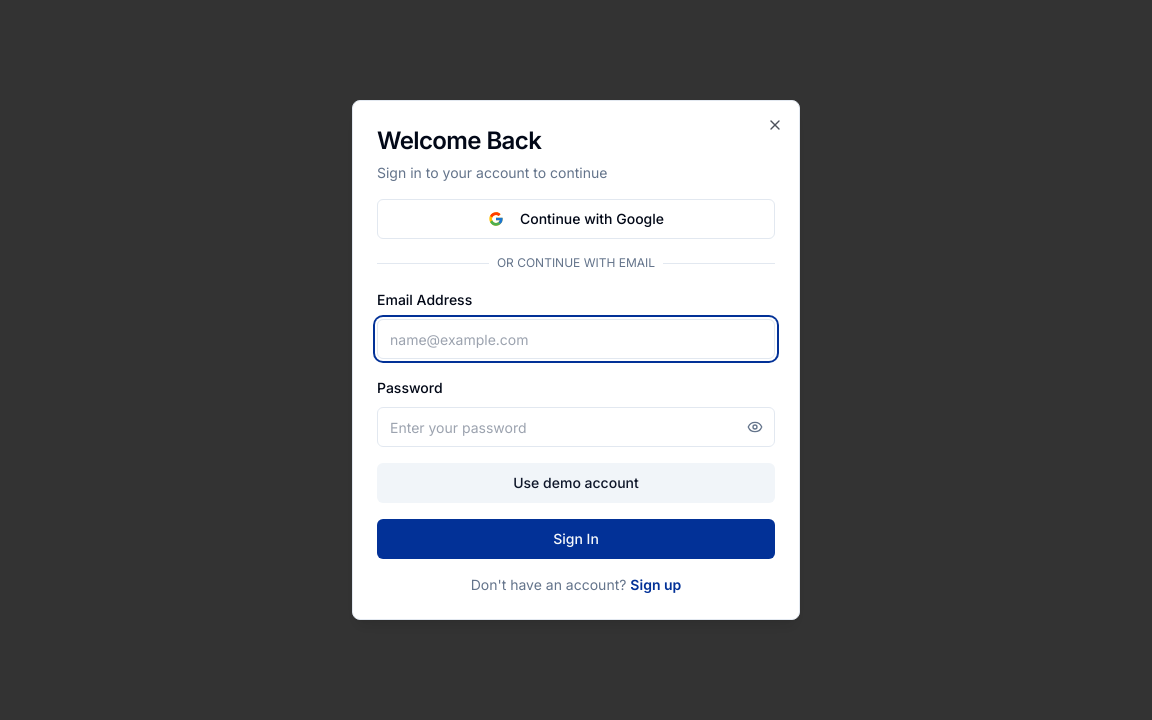
Test case: AuthModals - Authentication › should disable form inputs during loading
In the field labelled "Email Address": (576, 339) [377, 319, 775, 359], type "test@example.com"
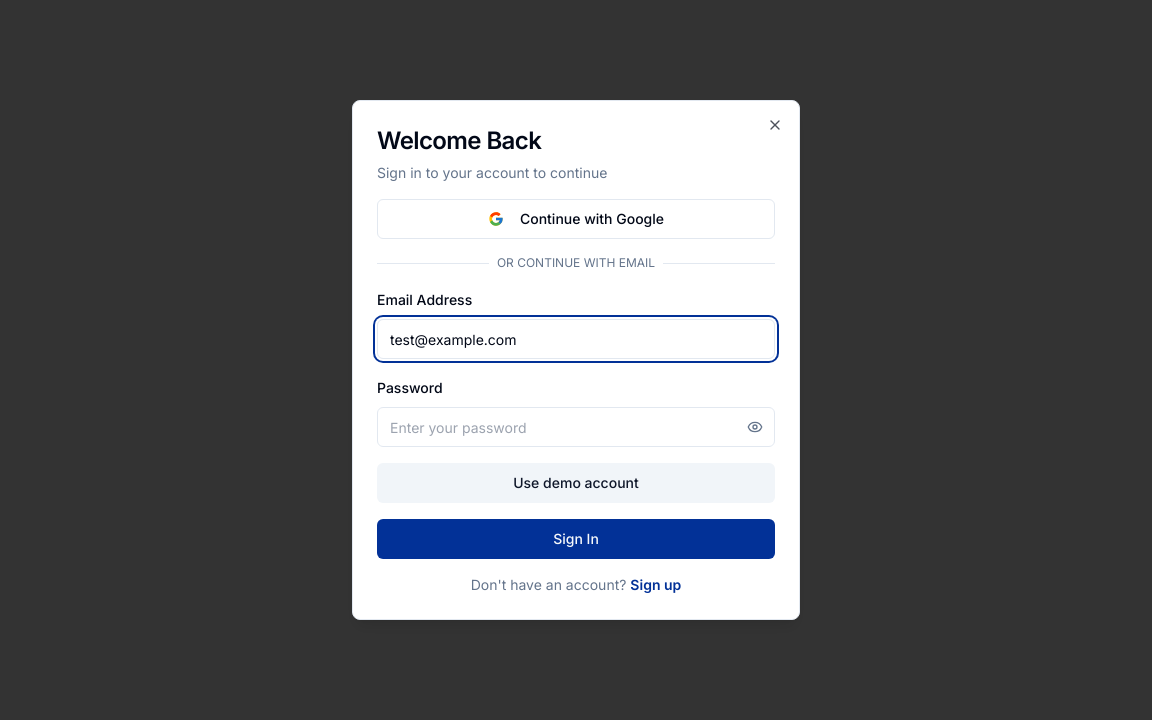
In the password field labelled "Password": (576, 427) [377, 407, 775, 447], type "password123"
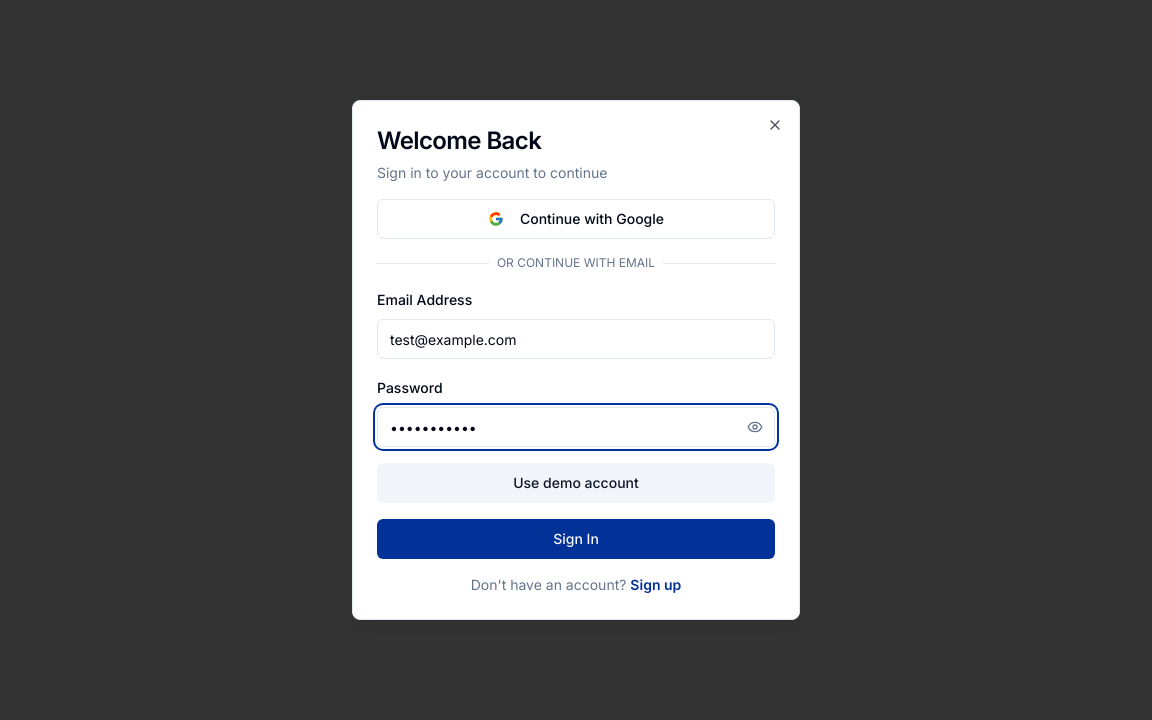
Click the button "Sign In": (576, 539) [377, 519, 775, 559]
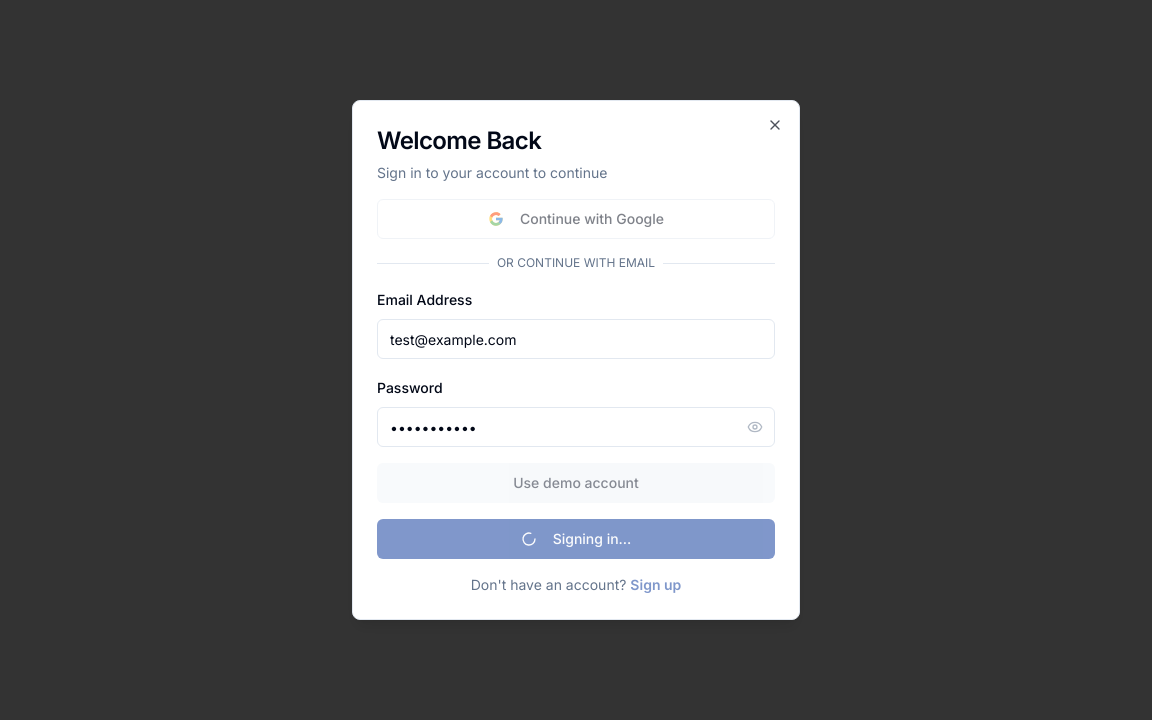
Expected: the field labelled "Email Address" is disabled, [377, 319, 775, 359]
Expected: the button named "Sign In" is disabled, [377, 519, 775, 559]
Expected: the password field labelled "Password" is disabled, [377, 407, 775, 447]
